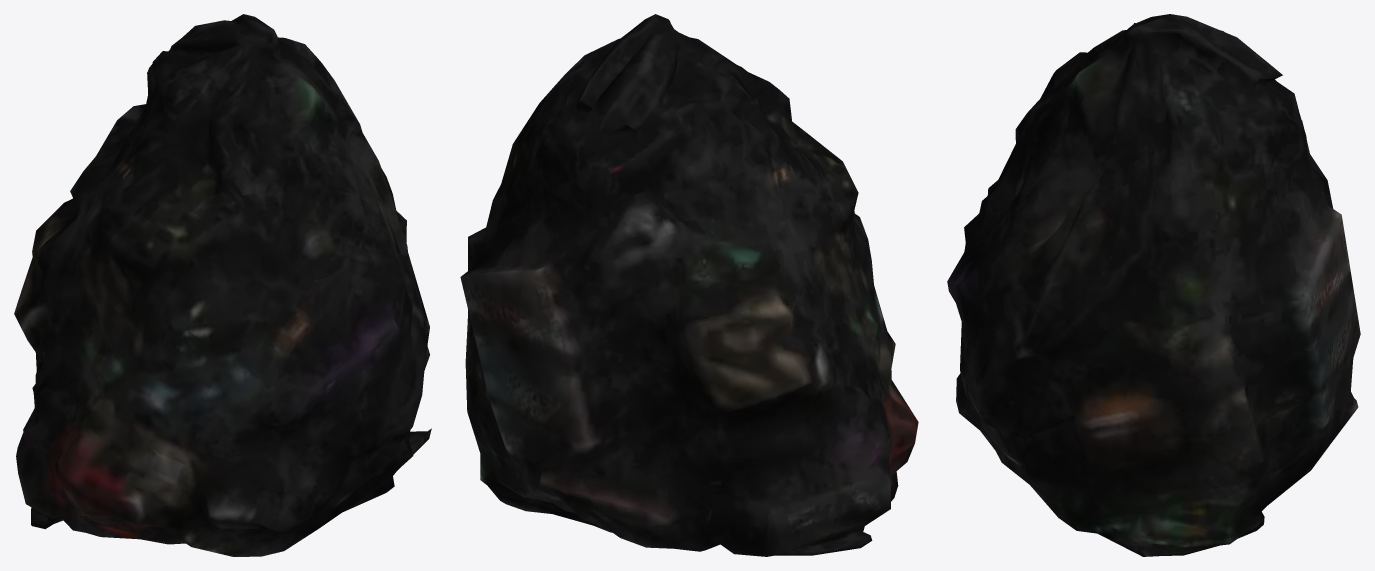
The model's file is trashbag.glb.
3 renders of one model, left to right at view 1: azimuth 30°, elevation 25°; view 2: azimuth 150°, elevation 25°; view 3: azimuth 270°, elevation 25°, orthographic. The views are drawn at different scales.
Visible parts, largest first — view 1: trashbag; view 2: trashbag; view 3: trashbag.
Part boxes in pixels (box(x1,y1,x2,y2)): trashbag: box(14, 14, 431, 556); trashbag: box(460, 14, 918, 556); trashbag: box(947, 14, 1360, 556).
Bounding box in the file's own units: 0.5281 × 0.575 × 0.4629.
Materials: 1 (1 with a texture image).
